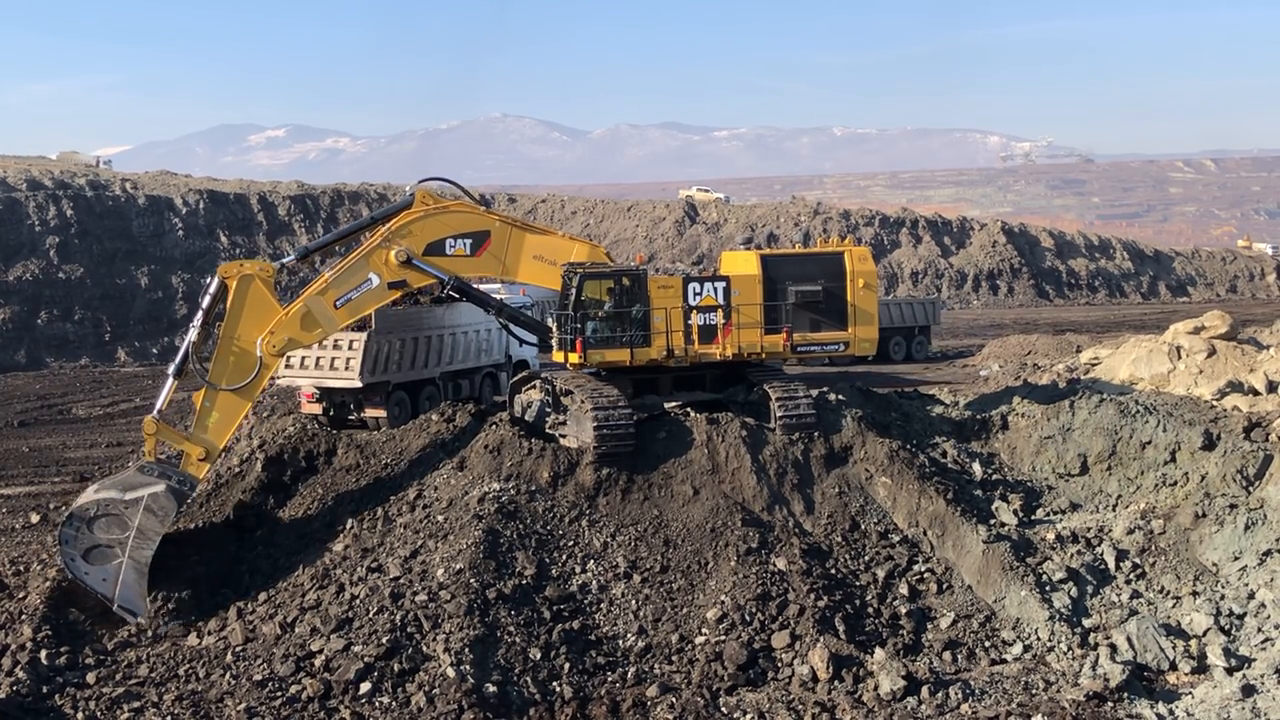empty: (60, 461, 200, 637)
